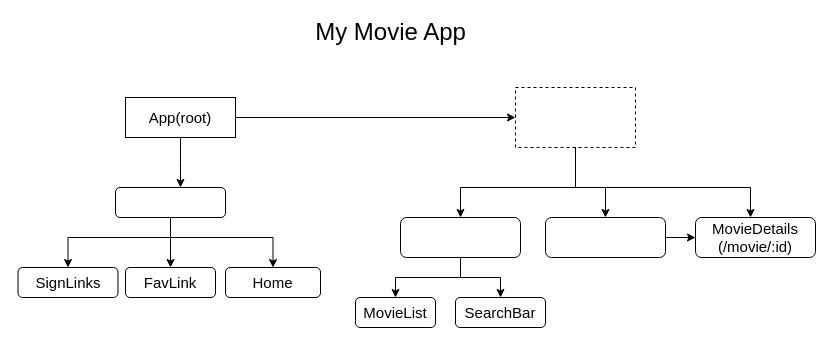
This 833x345 diagram has some shape labels left out. Here are the shapes that lost their labels. From the top down, the centre of each, then its label:
At point (575, 117): "Routes".
At point (170, 202): "Navbar".
At point (460, 237): "Dashboard (/)".
At point (605, 237): "Favorites (/favorites)".
